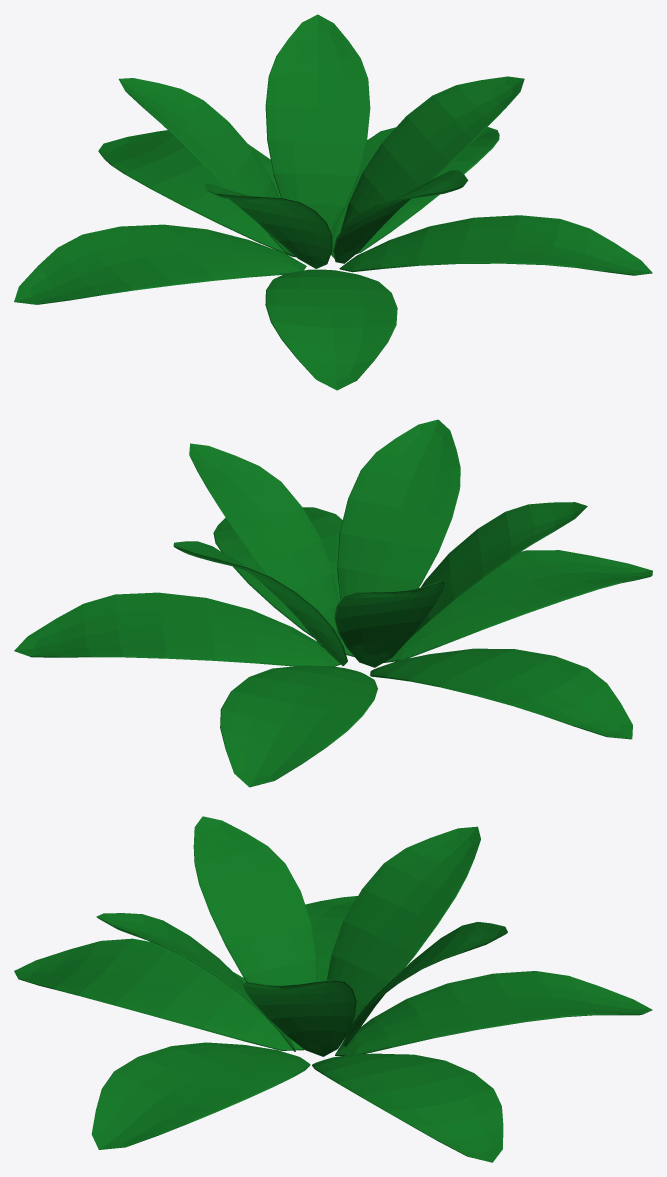
Rendered from Bush2.glb.
3 views of the same model, one above another, from view 1: azimuth 30°, elevation 25°; view 2: azimuth 150°, elevation 25°; view 3: azimuth 270°, elevation 25° (orthographic). The views are drawn at different scales.
Visible parts, largest first — view 1: Flat Bush; view 2: Flat Bush; view 3: Flat Bush.
Part boxes in pixels (x1,y1,x2,y2): Flat Bush: (14, 14, 652, 390); Flat Bush: (14, 419, 652, 787); Flat Bush: (14, 816, 652, 1162).
Bounding box in the file's own units: 1.72 × 0.5004 × 1.74.
Materials: 1 (1 with a texture image).
